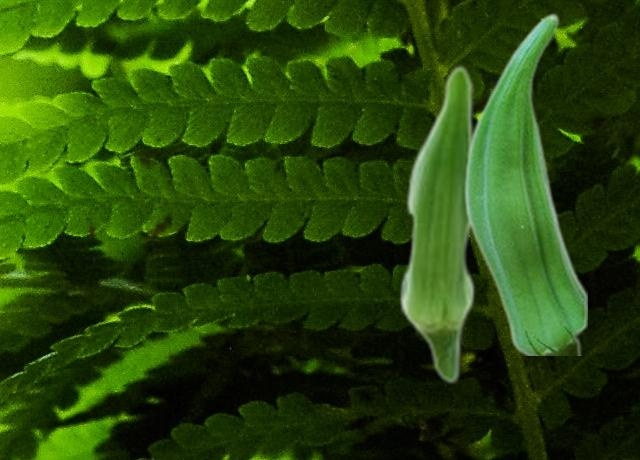okra: (463, 11, 586, 354), (398, 64, 475, 384)
